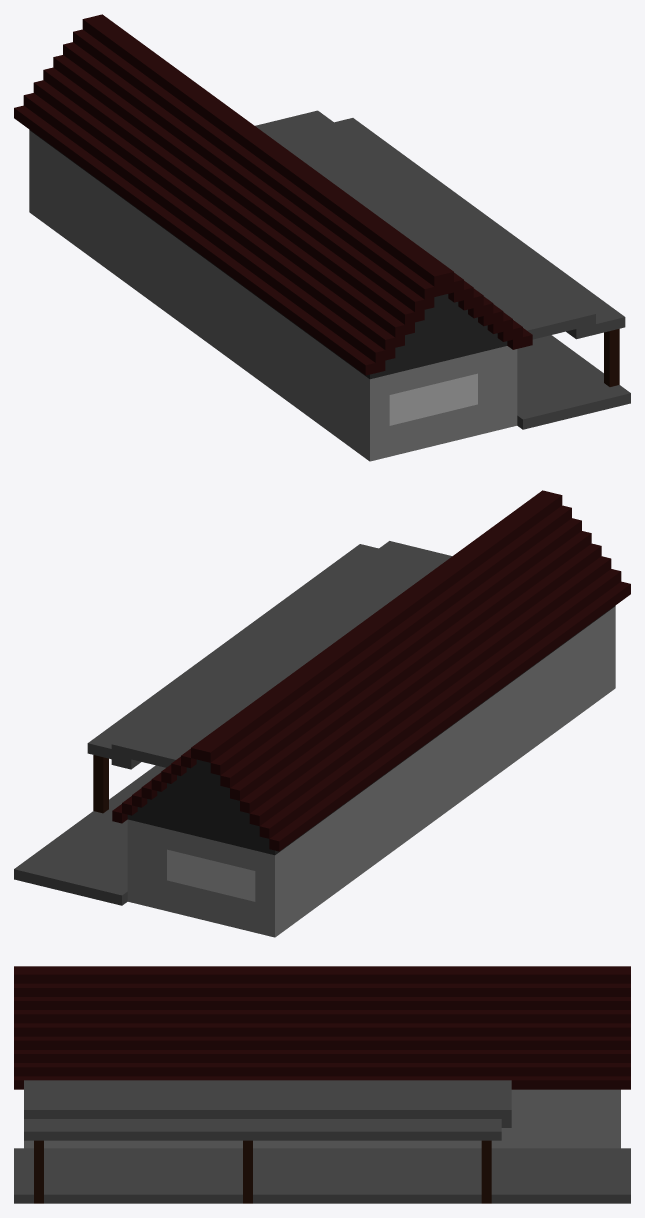
File: Casa.obj
The picture shows the model from 3 angles, top to bottom: view 1: azimuth 30°, elevation 25°; view 2: azimuth 150°, elevation 25°; view 3: azimuth 270°, elevation 25°; orthographic projection. The views are drawn at different scales.
Size of the model in its own units: 2.7 by 1.7 by 6.2.
Materials: 1 (1 with a texture image).
